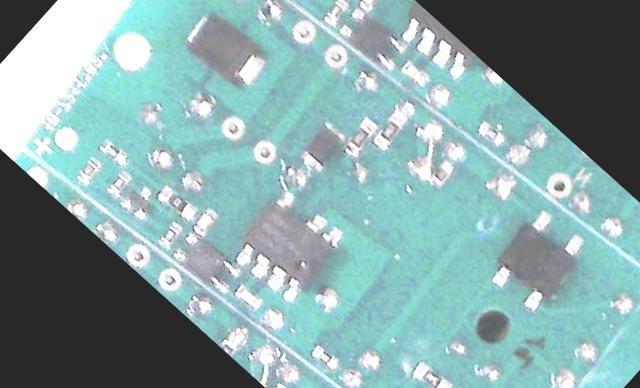chip-capacitor: (395, 54, 433, 91), (230, 281, 265, 315), (188, 204, 221, 238), (355, 0, 386, 12)
chip-resistor: (152, 179, 201, 226), (369, 108, 411, 152), (341, 117, 380, 157), (407, 356, 454, 388), (306, 338, 343, 374), (96, 135, 131, 169), (423, 156, 457, 191), (473, 116, 508, 150), (153, 218, 186, 252), (102, 166, 134, 200), (72, 153, 104, 186), (319, 0, 352, 28)
diode: (176, 3, 274, 99), (292, 117, 348, 175)
ic: (224, 182, 351, 310), (477, 201, 597, 323), (167, 226, 245, 302), (333, 2, 410, 76)
transistor: (114, 177, 163, 226)
